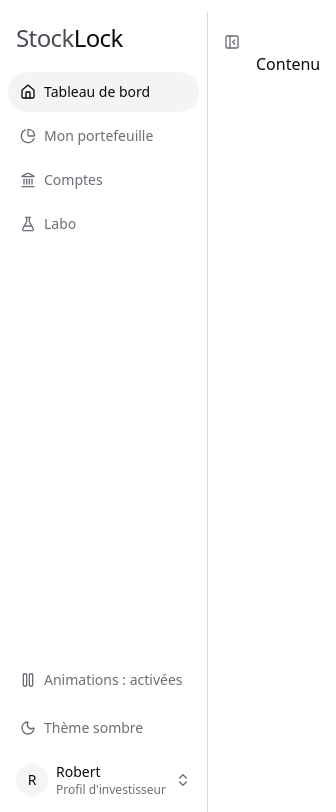
Scenario: AppLayout › reduces the menu to its icon rail, then deploys it again
Click the button named "Réduire le menu": [232, 42] box [216,26,248,58]
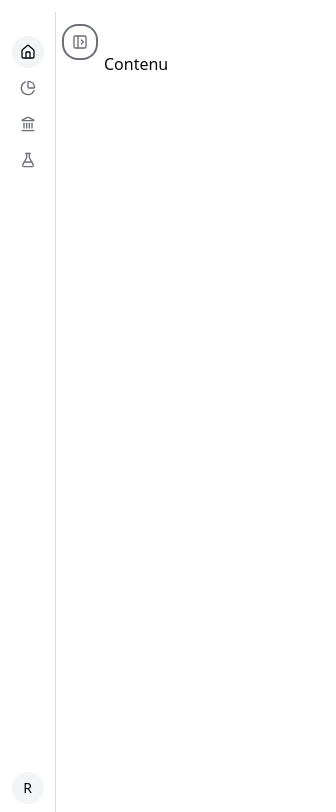
Expected: the button named "Profil actif : Robert" is shown, [12,772,44,804]
Expected: the button named "Déployer le menu" is collapsed
Click the button named "Déployer le menu": [80, 42] box [64,26,96,58]
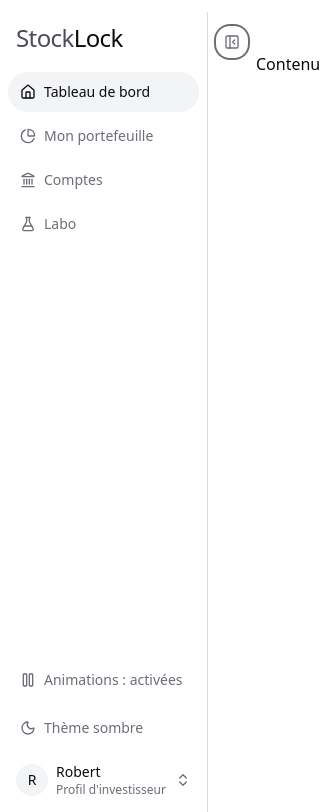
Expected: the button named "Réduire le menu" is expanded, [216,26,248,58]
